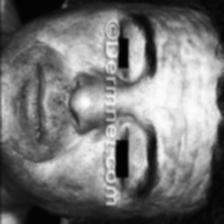Toxin: (160, 18, 210, 202), (58, 24, 100, 186)
